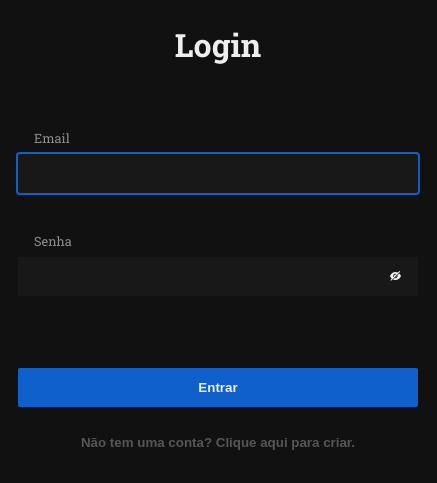
Test: Authentication › Login › Can't submit with empty fields
Step 1. Click the button with test id "submit" → (218, 388), box [18, 368, 418, 407]
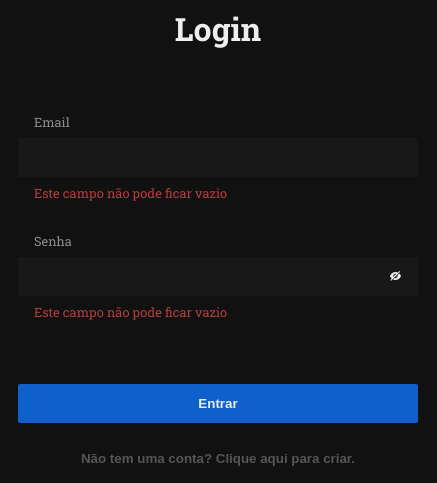
Expected: the text with test id "email-error" reads "Este campo não pode ficar vazio", [34, 185, 227, 201]
